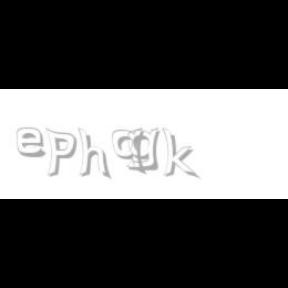P: (45, 128, 77, 178)
e: (16, 128, 50, 158)
g: (126, 128, 163, 171)
h: (78, 128, 112, 180)
k: (162, 128, 200, 180)
q: (112, 128, 148, 176)
